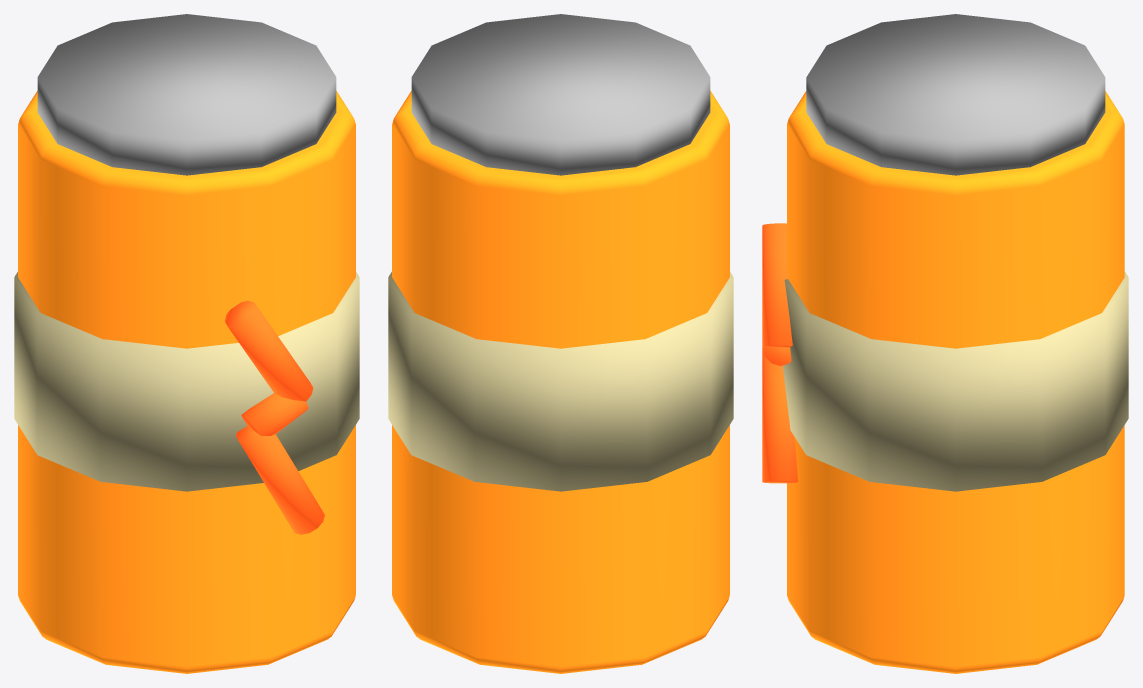
Rendered from drink.glb.
The picture shows the model from 3 angles, left to right: view 1: azimuth 30°, elevation 25°; view 2: azimuth 150°, elevation 25°; view 3: azimuth 270°, elevation 25°; orthographic projection.
Visible parts, largest first — view 1: drink.001; view 2: drink.001; view 3: drink.001.
Part boxes in pixels (x1,y1,x2,y2): drink.001: (14,14,359,673); drink.001: (388,14,733,673); drink.001: (762,14,1128,673).
Size of the model in its own units: 0.266 by 0.45 by 0.282.
